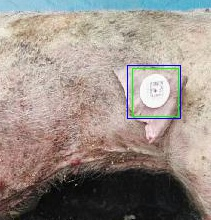text: (132, 68, 178, 116)
